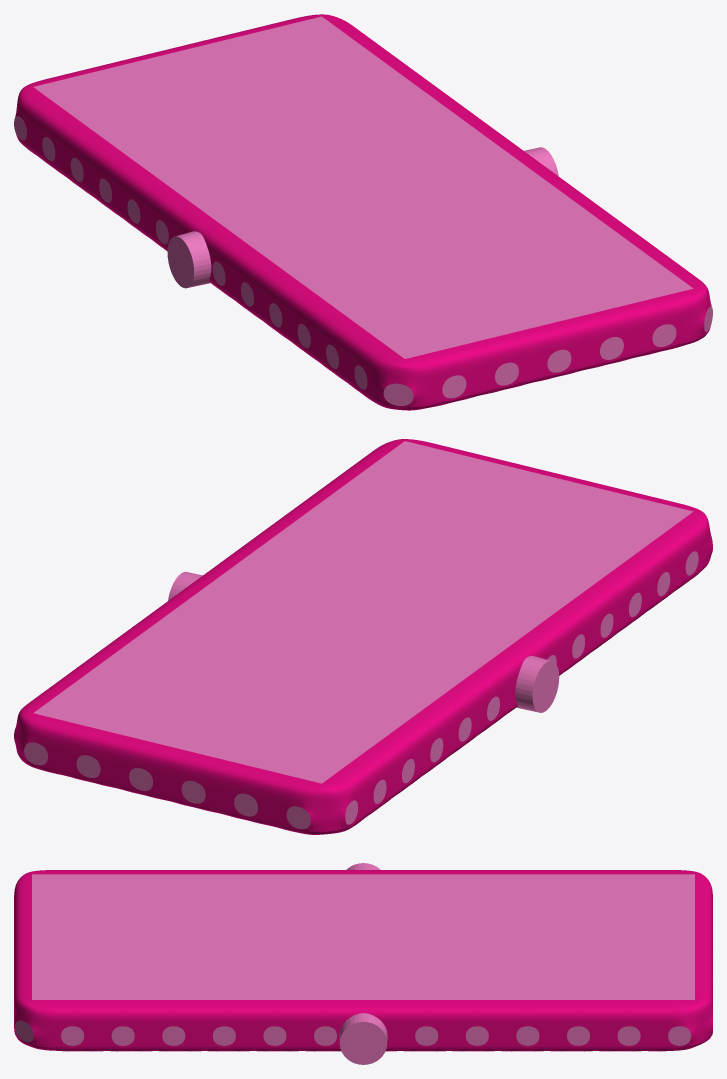
File: seesawPlatform.fbx
The picture shows the model from 3 angles, top to bottom: view 1: azimuth 30°, elevation 25°; view 2: azimuth 150°, elevation 25°; view 3: azimuth 270°, elevation 25°; orthographic projection. The views are drawn at different scales.
Visible parts, largest first — view 1: Cube.002, Cube, Cube.001, Cylinder; view 2: Cube.002, Cube, Cube.001, Cylinder; view 3: Cube.002, Cube, Cube.001, Cylinder.
Part boxes in pixels (box(x1,y1,x2,y2)): Cube.002: box(33, 16, 693, 358); Cube: box(15, 14, 711, 410); Cube.001: box(14, 116, 712, 405); Cylinder: box(167, 147, 558, 288); Cube.002: box(33, 441, 693, 783); Cube: box(14, 439, 712, 834); Cube.001: box(24, 551, 698, 829); Cylinder: box(168, 572, 559, 712); Cube.002: box(32, 874, 694, 999); Cube: box(14, 870, 712, 1051); Cube.001: box(15, 1020, 691, 1045); Cylinder: box(339, 863, 387, 1064).
Size of the model in its own units: 354 by 54.14 by 658.
